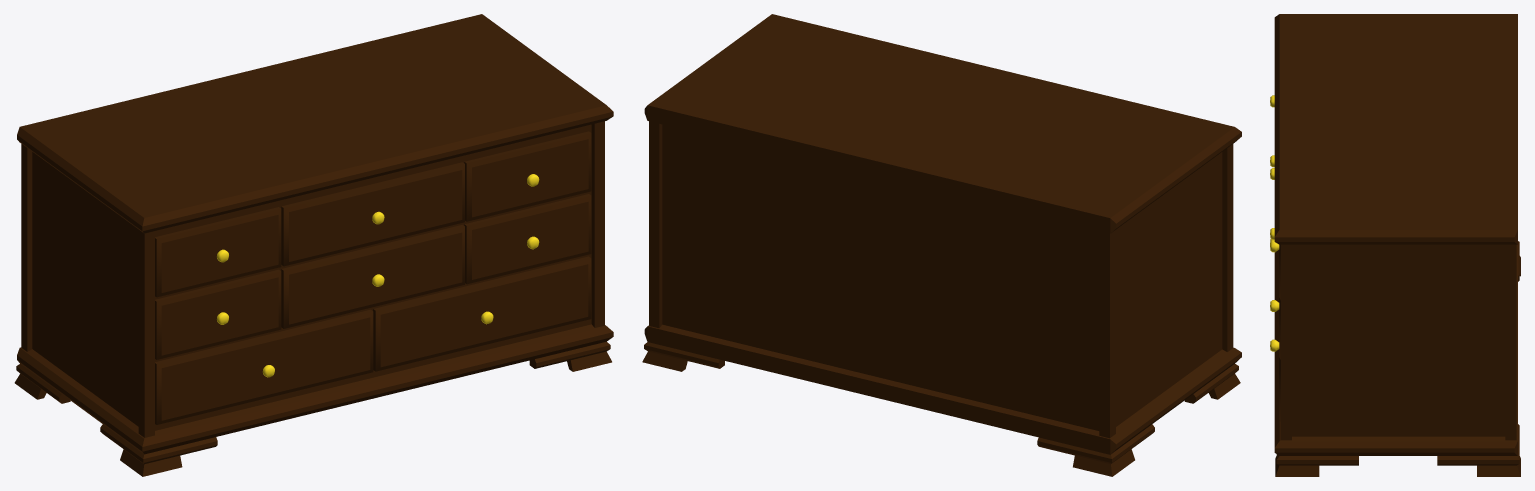
Rendered from model_Historical_Dresser.fbx.
3 renders of one model, left to right at view 1: azimuth 30°, elevation 25°; view 2: azimuth 150°, elevation 25°; view 3: azimuth 270°, elevation 25°, orthographic. The views are drawn at different scales.
Visible parts, largest first — view 1: b_low, a_low, c_low, e_low, d_low; view 2: b_low, c_low, e_low; view 3: b_low, c_low, e_low, d_low, a_low.
Part boxes in pixels (left/top/right/bottom): b_low: left=17, top=14, right=613, bottom=454; a_low: left=155, top=131, right=591, bottom=424; c_low: left=21, top=121, right=604, bottom=437; e_low: left=14, top=341, right=611, bottom=476; d_low: left=216, top=174, right=539, bottom=377; b_low: left=644, top=14, right=1241, bottom=454; c_low: left=649, top=121, right=1233, bottom=438; e_low: left=642, top=342, right=1240, bottom=476; b_low: left=1274, top=14, right=1517, bottom=455; c_low: left=1280, top=244, right=1516, bottom=440; e_low: left=1275, top=241, right=1520, bottom=476; d_low: left=1270, top=95, right=1279, bottom=351; a_low: left=1279, top=244, right=1280, bottom=421.
Bounding box in the file's own units: 183 × 95.04 × 88.05.
